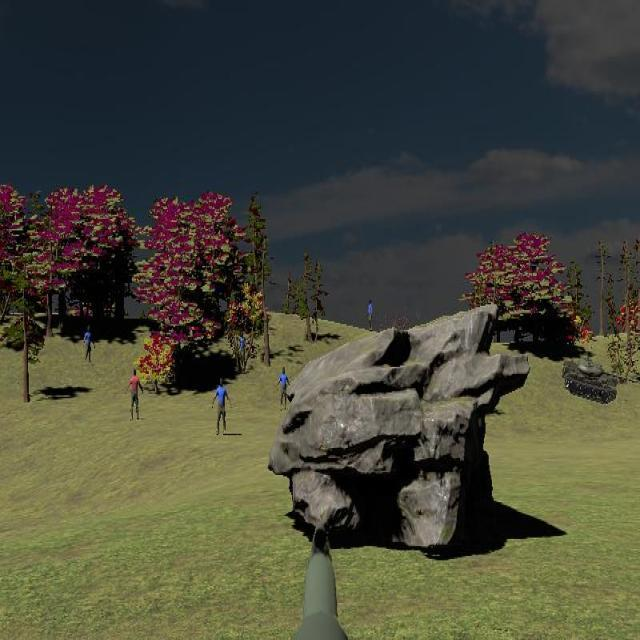Human: (212, 377, 232, 436), (126, 367, 144, 422), (276, 366, 290, 411)
Tank: (562, 358, 638, 405)
